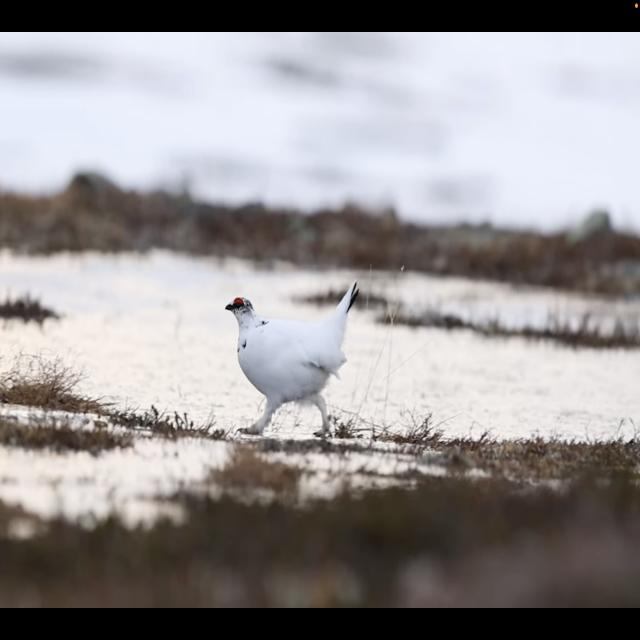beak: (224, 300, 233, 312)
bird: (223, 277, 359, 443)
